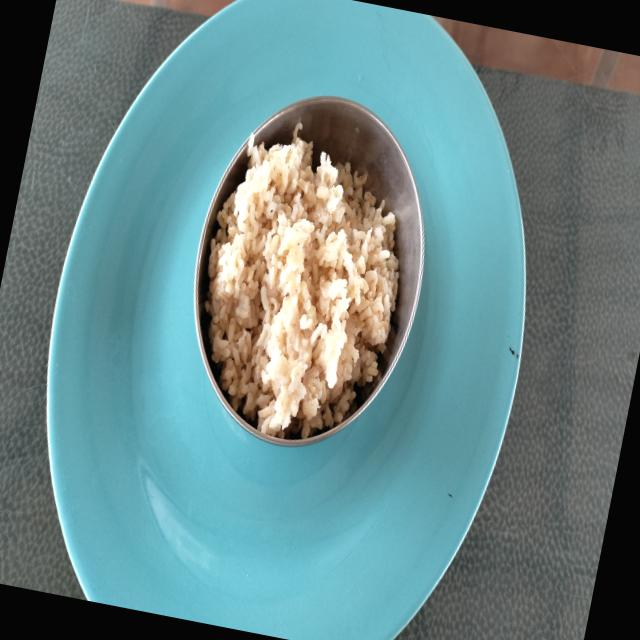brown-rice: (205, 130, 399, 439)
